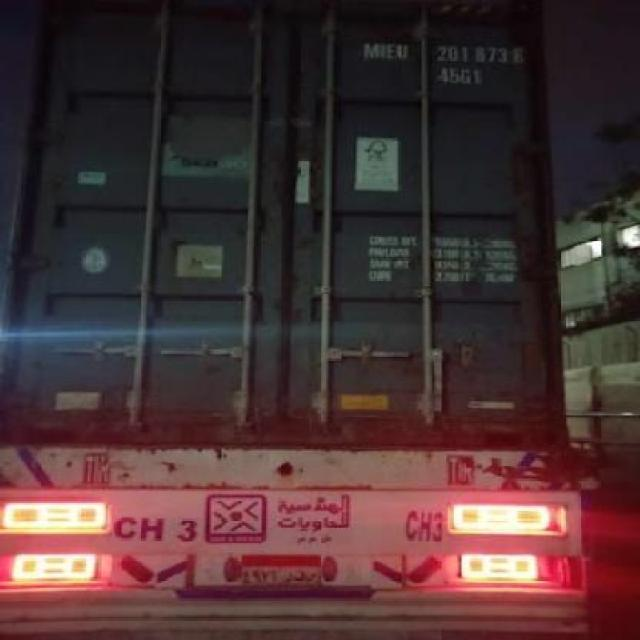ISO: (442, 66, 484, 90)
container_number: (362, 38, 518, 63)
